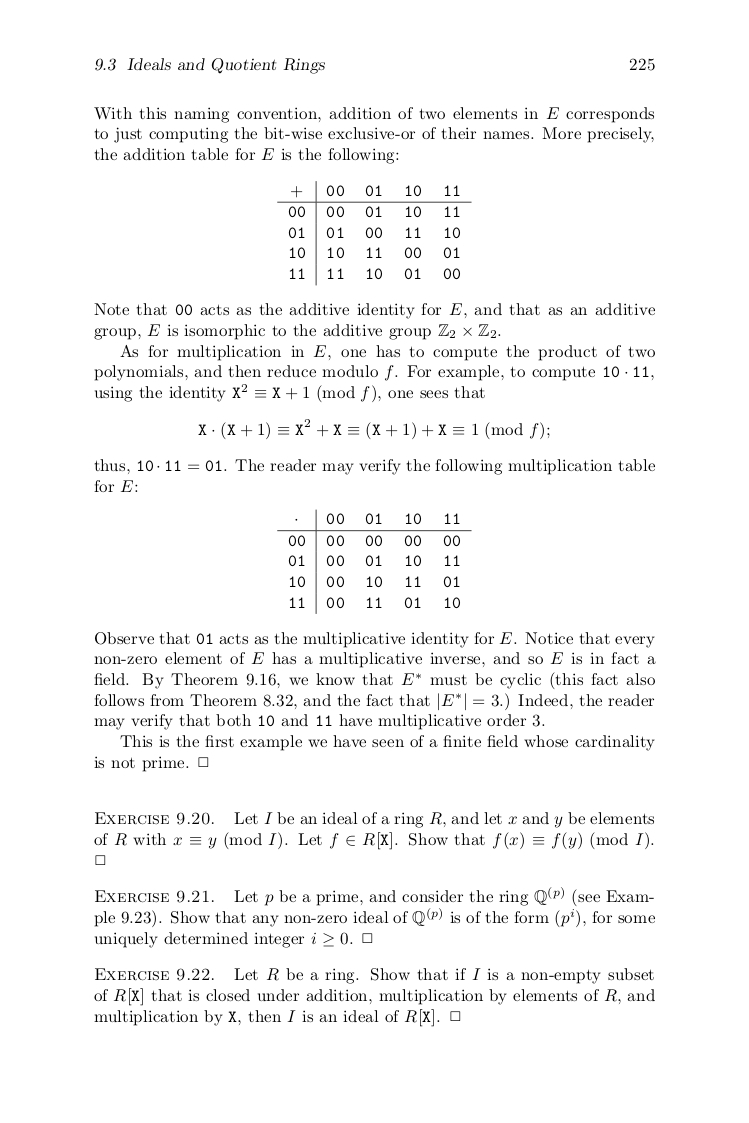Table: (277, 180, 471, 286), (277, 508, 471, 614)
formula: (198, 418, 549, 440)
